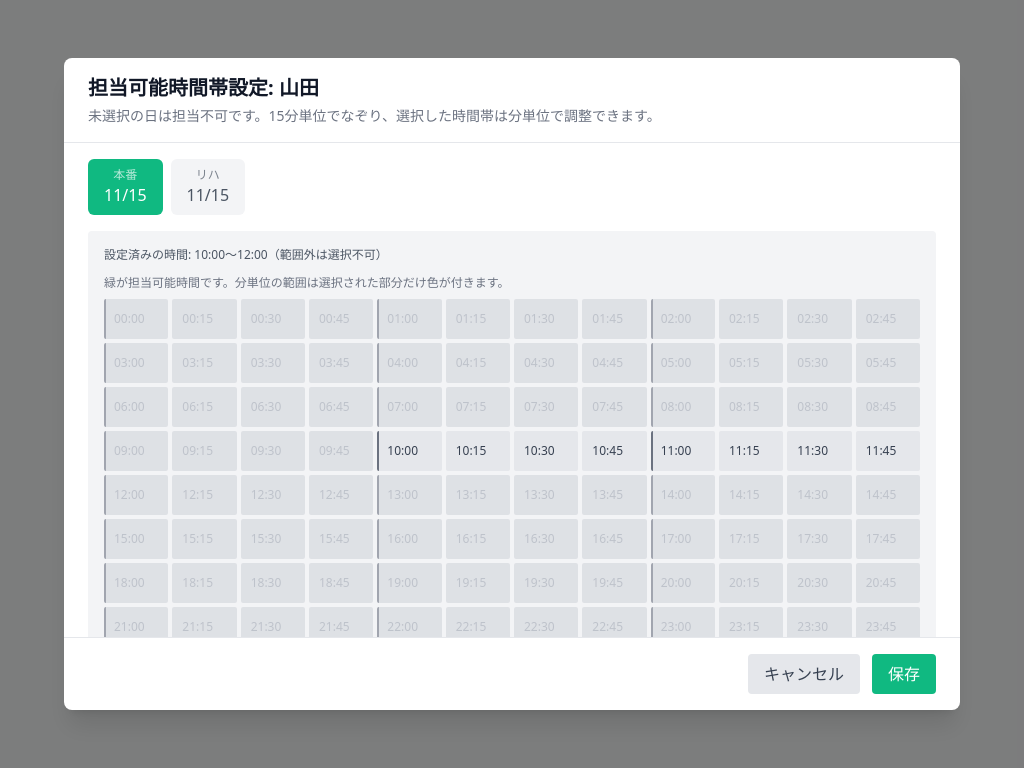
Test: uses performance and rehearsal labels and each timetable’s time bounds for a member
Check: the text "本番" is shown, box 113,167 -> 137,183
Check: the button named "09:45〜10:00 選択不可" is disabled, box 309,431 -> 373,471
Click the text "リハ".
click(208, 175)  # box 196,167 -> 220,183
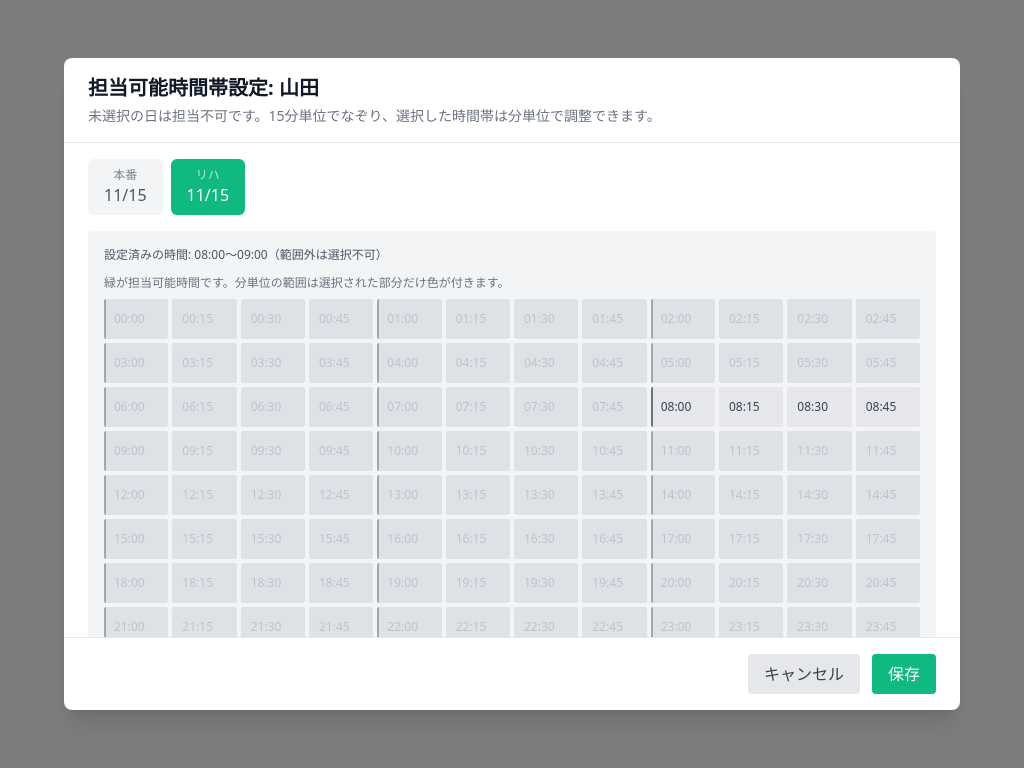
Check: the button named "09:00〜09:15 選択不可" is disabled, box 104,431 -> 168,471
Check: the button named "08:00〜08:15 未選択" is enabled, box 651,387 -> 715,427
